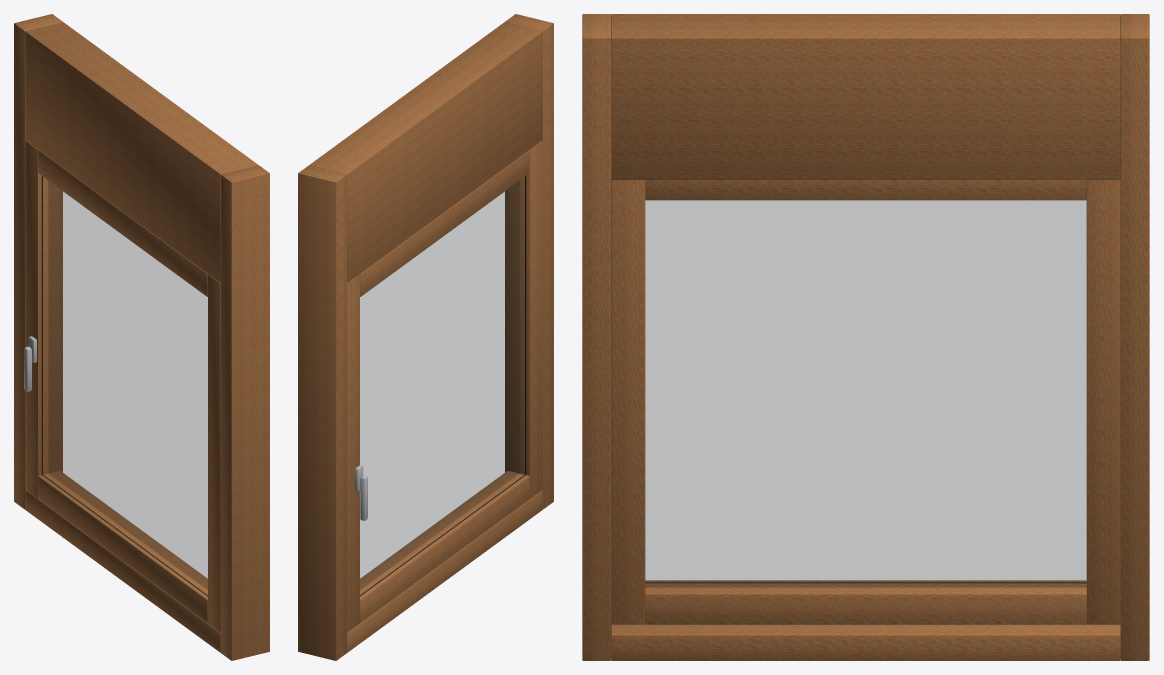
Rendered from recfxolZ9peFYiEx8.glb.
3 views of the same model, side by side, from view 1: azimuth 30°, elevation 25°; view 2: azimuth 150°, elevation 25°; view 3: azimuth 270°, elevation 25° (orthographic). The views are drawn at different scales.
Visible parts, largest first — view 1: fenetre_chambre_etage__ouvrant, fenetre_chambre_etage__cadre; view 2: fenetre_chambre_etage__ouvrant, fenetre_chambre_etage__cadre; view 3: fenetre_chambre_etage__ouvrant, fenetre_chambre_etage__cadre.
Boxes of the visible parts, bbox=[...] form: fenetre_chambre_etage__ouvrant: bbox=[24, 140, 220, 632]; fenetre_chambre_etage__cadre: bbox=[14, 14, 269, 660]; fenetre_chambre_etage__ouvrant: bbox=[347, 140, 542, 632]; fenetre_chambre_etage__cadre: bbox=[298, 14, 553, 660]; fenetre_chambre_etage__ouvrant: bbox=[611, 179, 1120, 624]; fenetre_chambre_etage__cadre: bbox=[582, 14, 1149, 660].
Bounding box in the file's own units: 0.15 × 1.42 × 1.18.
Materials: 4 (2 with a texture image).
